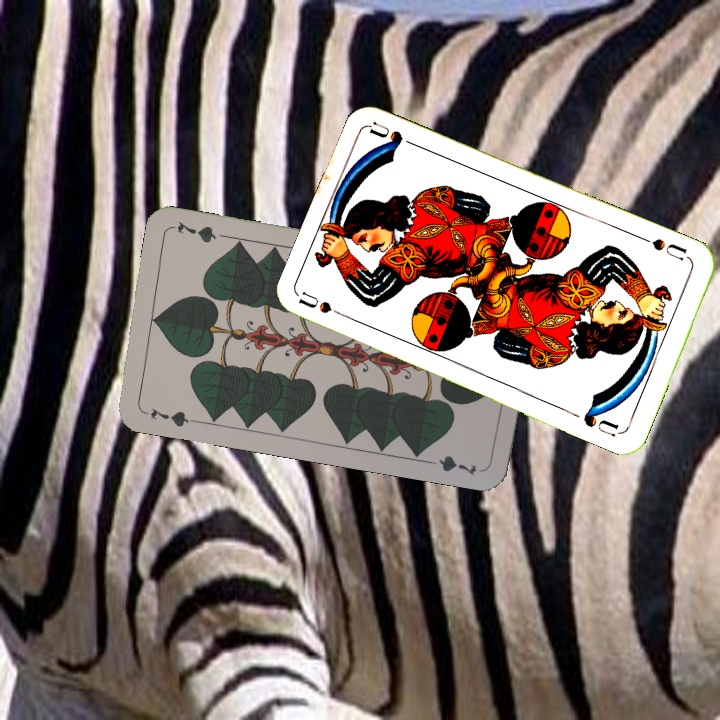G7: (147, 404, 198, 430)
SU: (296, 288, 354, 323), (637, 232, 693, 264)
